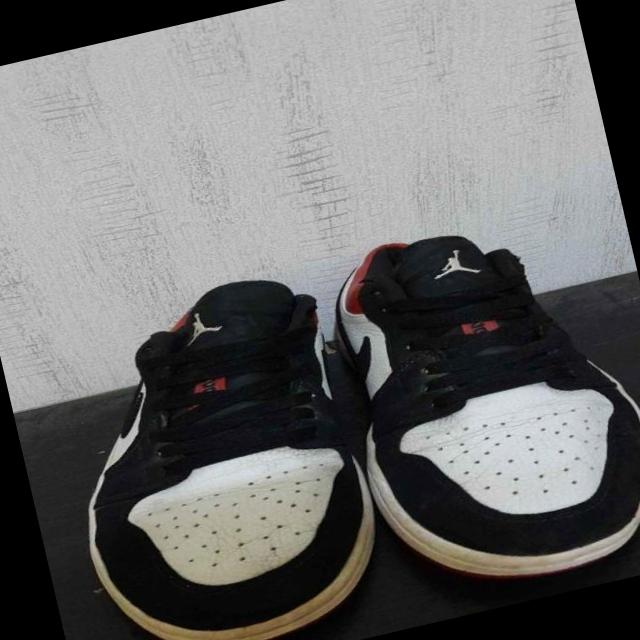nike_fake_jordan: (29, 253, 421, 640), (305, 183, 640, 616)
